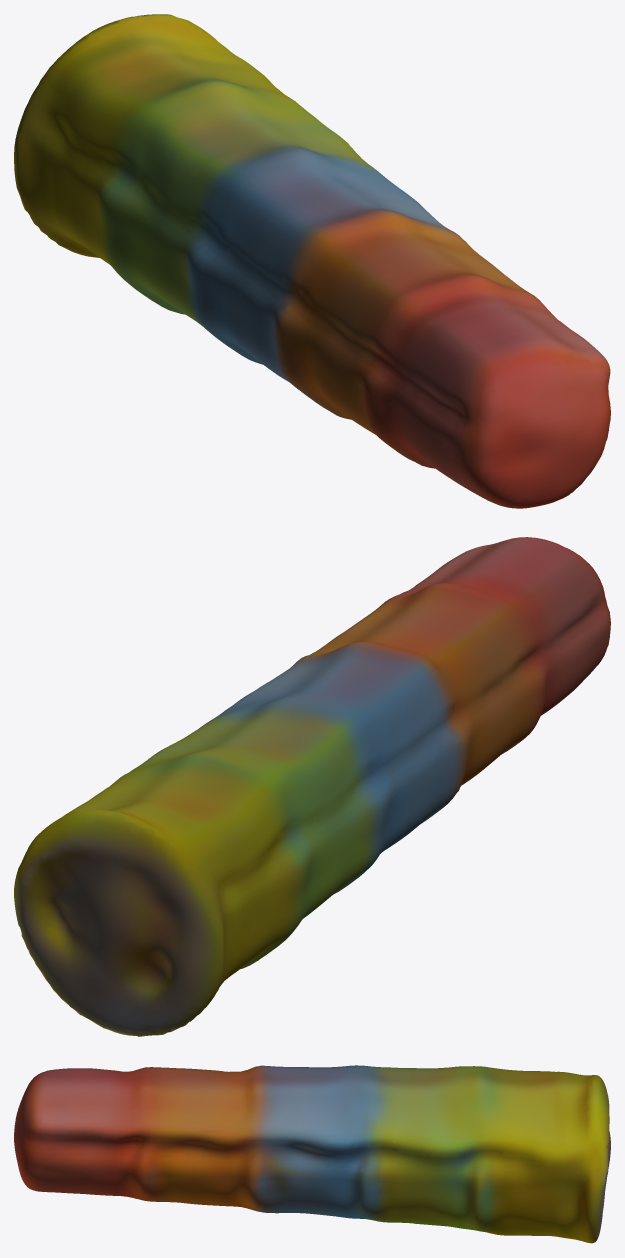
Rendered from stucking_cups.glb.
The picture shows the model from 3 angles, top to bottom: view 1: azimuth 30°, elevation 25°; view 2: azimuth 150°, elevation 25°; view 3: azimuth 270°, elevation 25°; orthographic projection. The views are drawn at different scales.
Size of the model in its own units: 0.2822 by 0.2854 by 0.9997.
